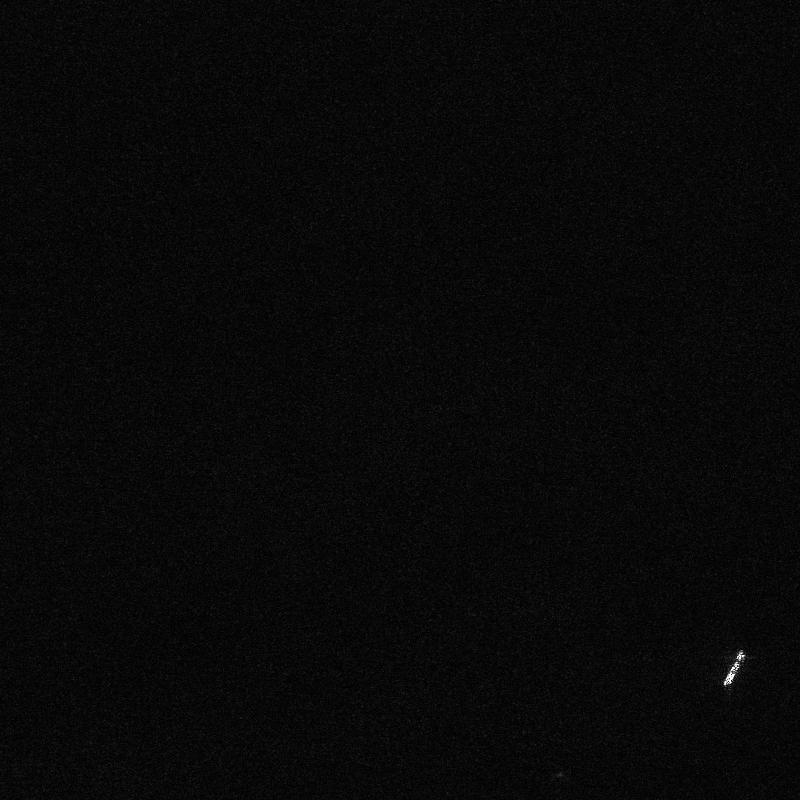ship: (723, 649, 745, 686)
